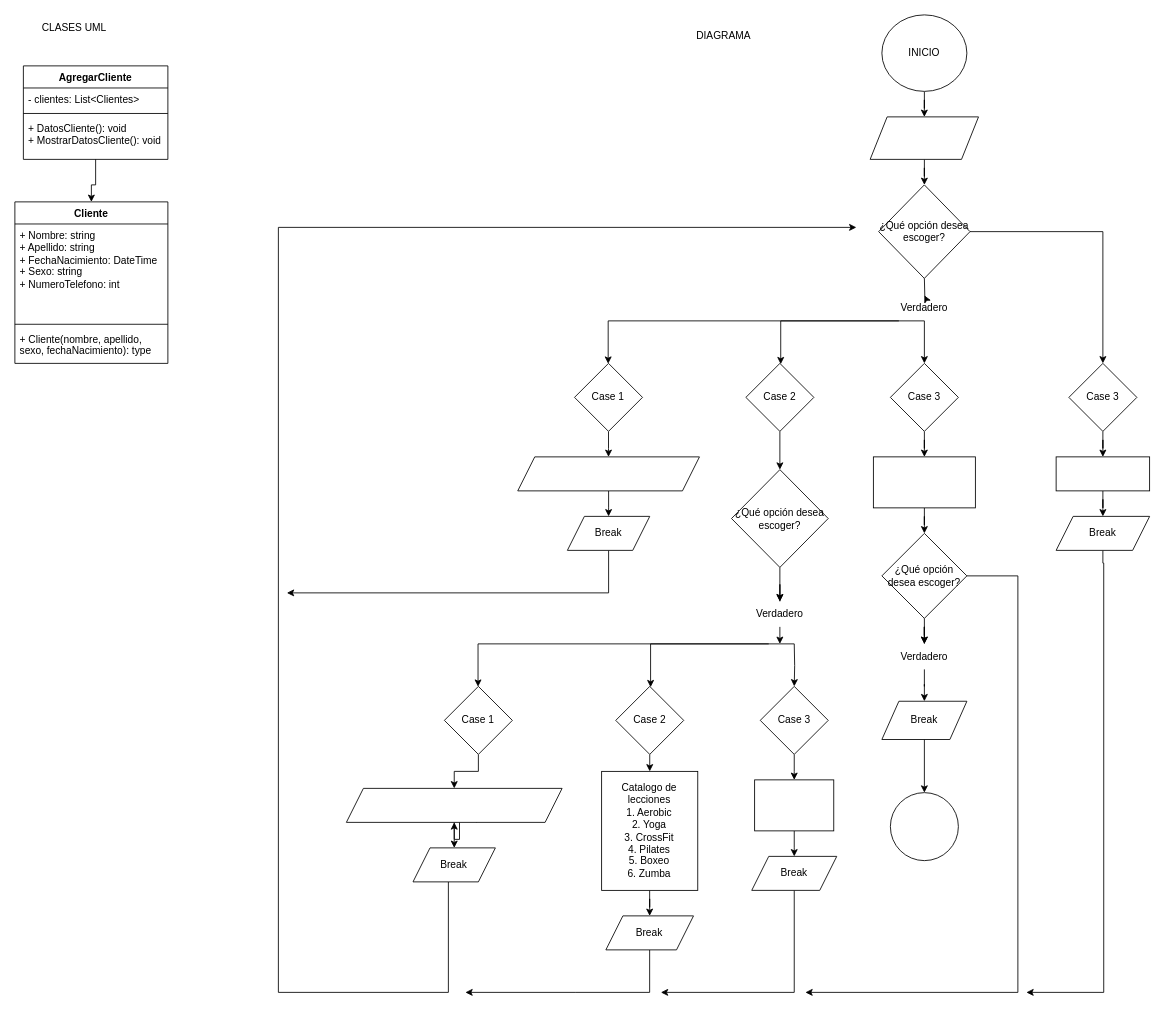
Some shapes in this 1165 by 1014 pixel diagram are drawn without their labels. Each missing label, with the centre of its shape:
agregarclientes.DatosCliente( ): (x=608, y=473)
agregarclientes.MostrarDatosClientes();: (x=454, y=805)
bool salir = false: (x=924, y=137)
FIN: (x=924, y=826)
Opción inválida: (x=1102, y=473)
Sede 1 Sede 2 Sede 3: (x=794, y=805)
¿Desea salir del programa?: (x=924, y=482)
